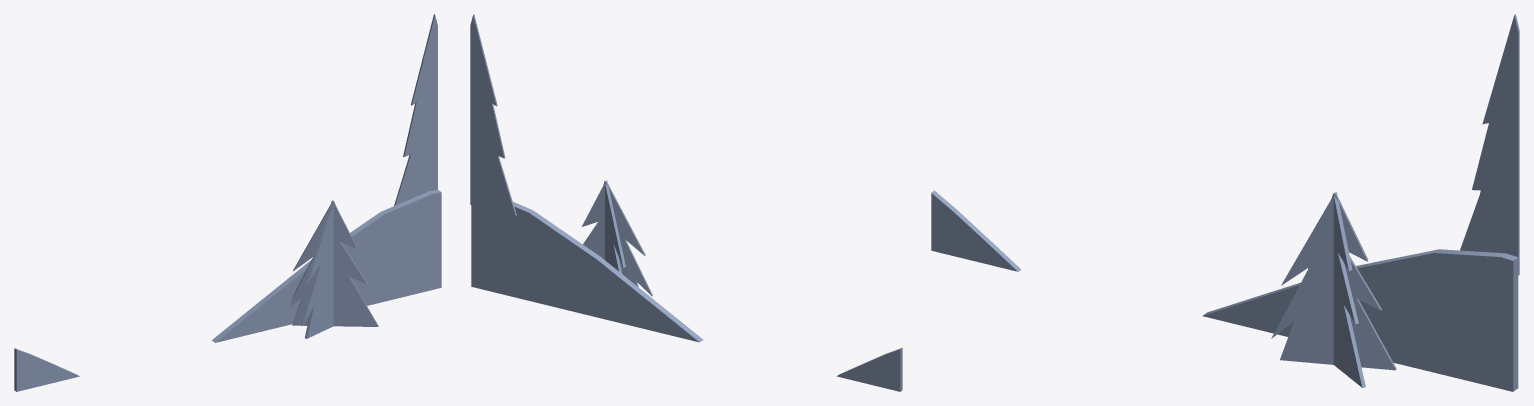
File: frame_0059.glb
3 views of the same model, side by side, from view 1: azimuth 30°, elevation 25°; view 2: azimuth 150°, elevation 25°; view 3: azimuth 330°, elevation 25° (orthographic). The views are drawn at different scales.
Parts seen in each view (by area): view 1: export_trees_001.002; view 2: export_trees_001.002; view 3: export_trees_001.002.
Boxes of the visible parts, left/top/right/bottom form: export_trees_001.002: left=14, top=14, right=441, bottom=391; export_trees_001.002: left=470, top=14, right=902, bottom=391; export_trees_001.002: left=931, top=14, right=1519, bottom=391.
Size of the model in its own units: 0.4327 by 0.2652 by 0.0496.
